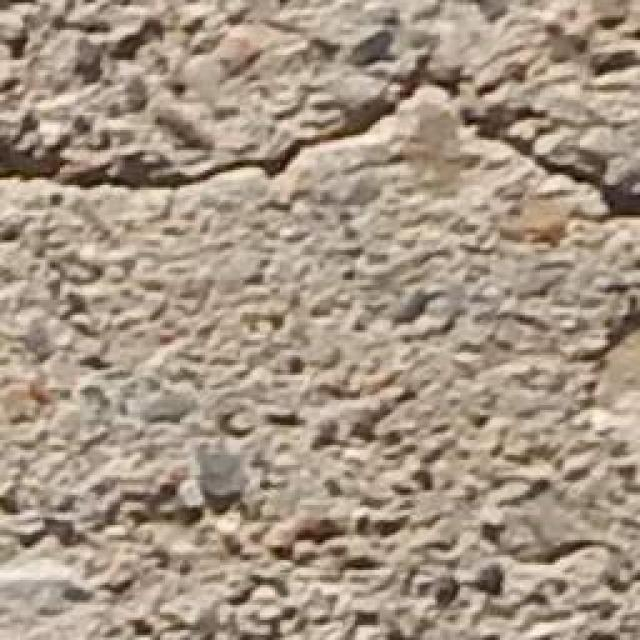concrete-crack: (4, 46, 639, 236)
